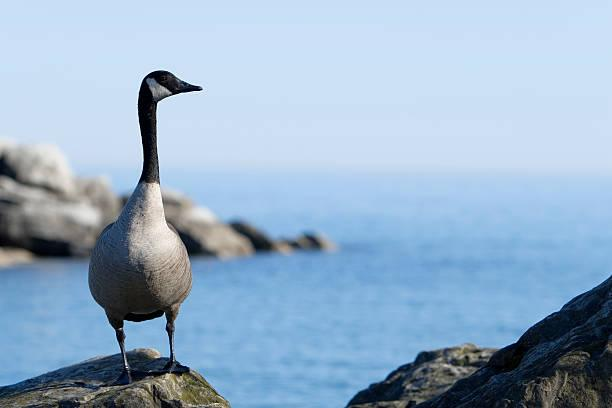Canadian-Goose: (78, 71, 207, 372)
